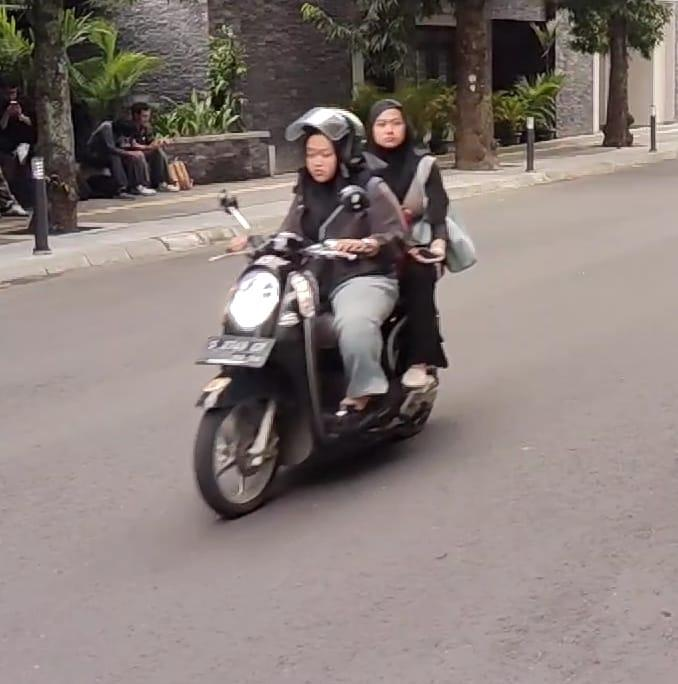helm: (284, 104, 367, 185)
nohelm: (367, 98, 409, 149)
riding: (190, 95, 479, 519)
